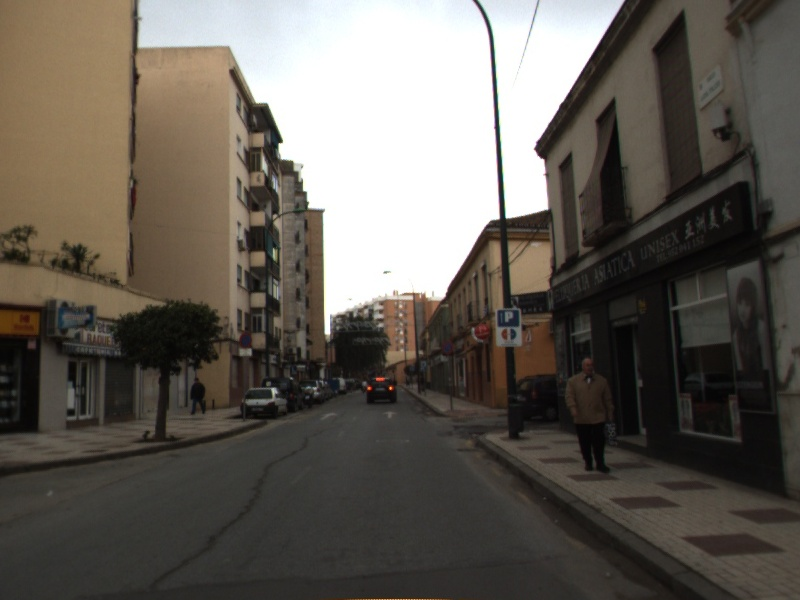STRAIGHT: (317, 410, 340, 422), (380, 409, 400, 420)
